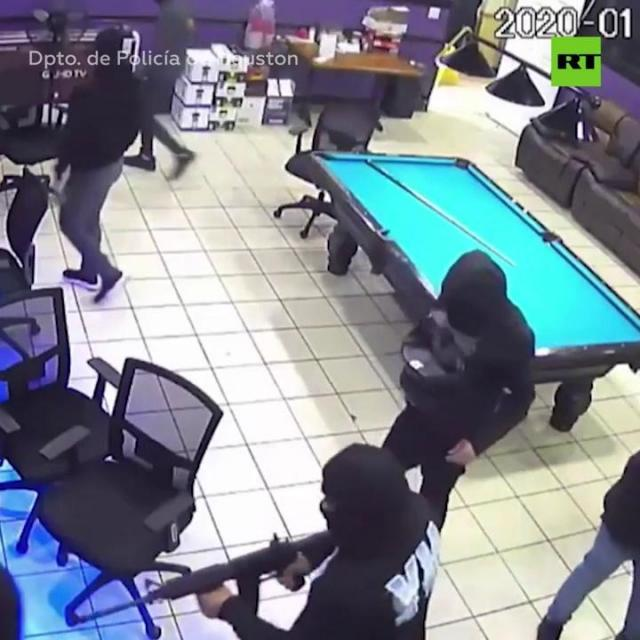weapon: (63, 527, 324, 640)
